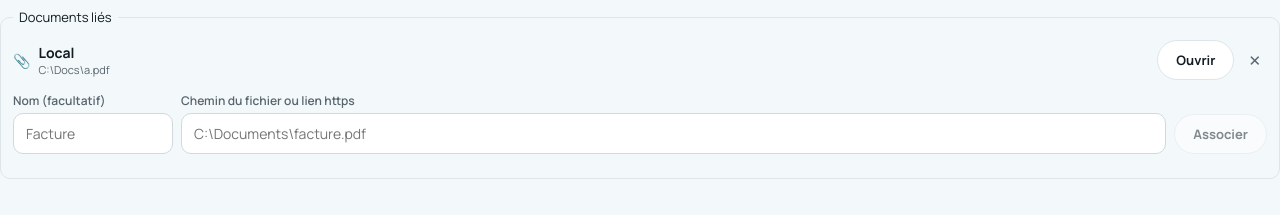
Scenario: champ « Documents liés » › explique qu’un fichier local ne s’ouvre que dans l’édition bureau
The width and height of the screenshot is (1280, 215).
Click the button with aria-label "Ouvrir le document Local": (1196, 60) [1157,40,1234,80]
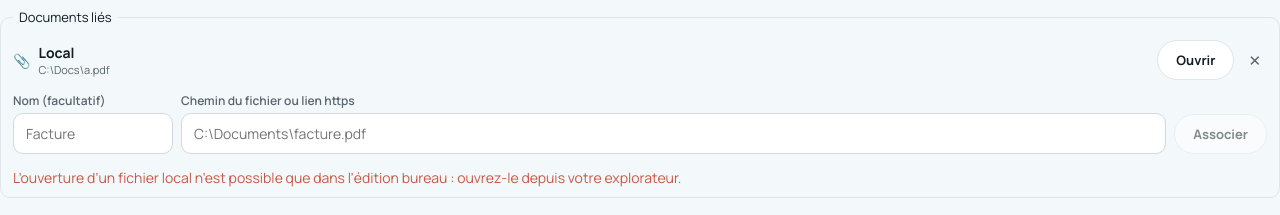
Check: the message shows "édition bureau", box [13,168,681,187]
